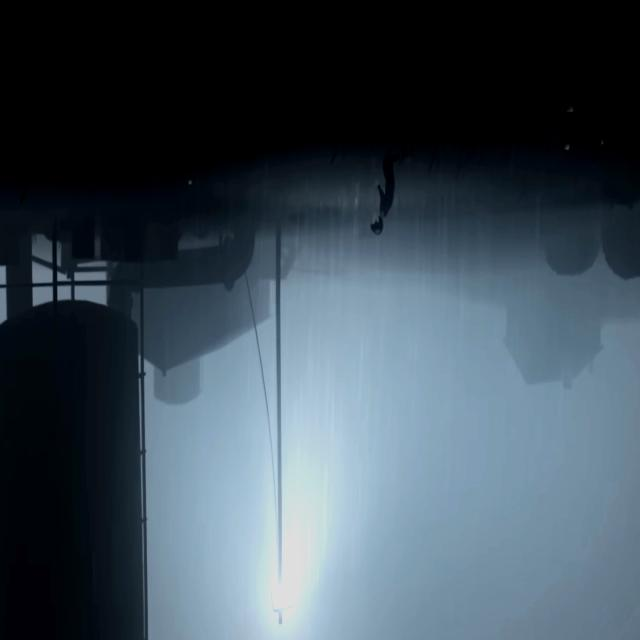boy: (371, 151, 400, 236)
